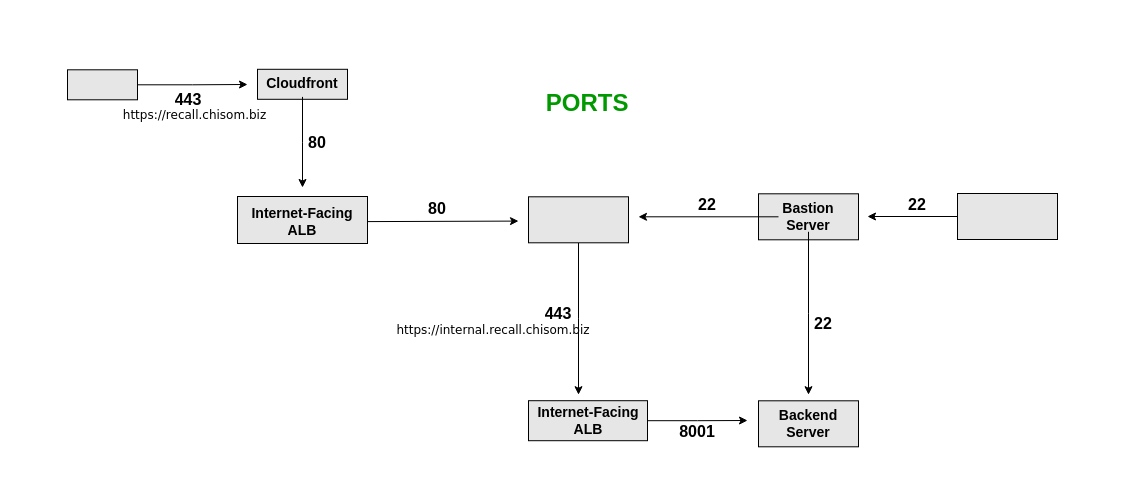
Some shapes in this 1124 by 504 pixel diagram are drawn without their labels. Each missing label, with the centre of its shape:
"Cloud Admin" belongs at point (1007, 216).
"Frontend Servers" belongs at point (578, 219).
"Users" belongs at point (102, 84).
